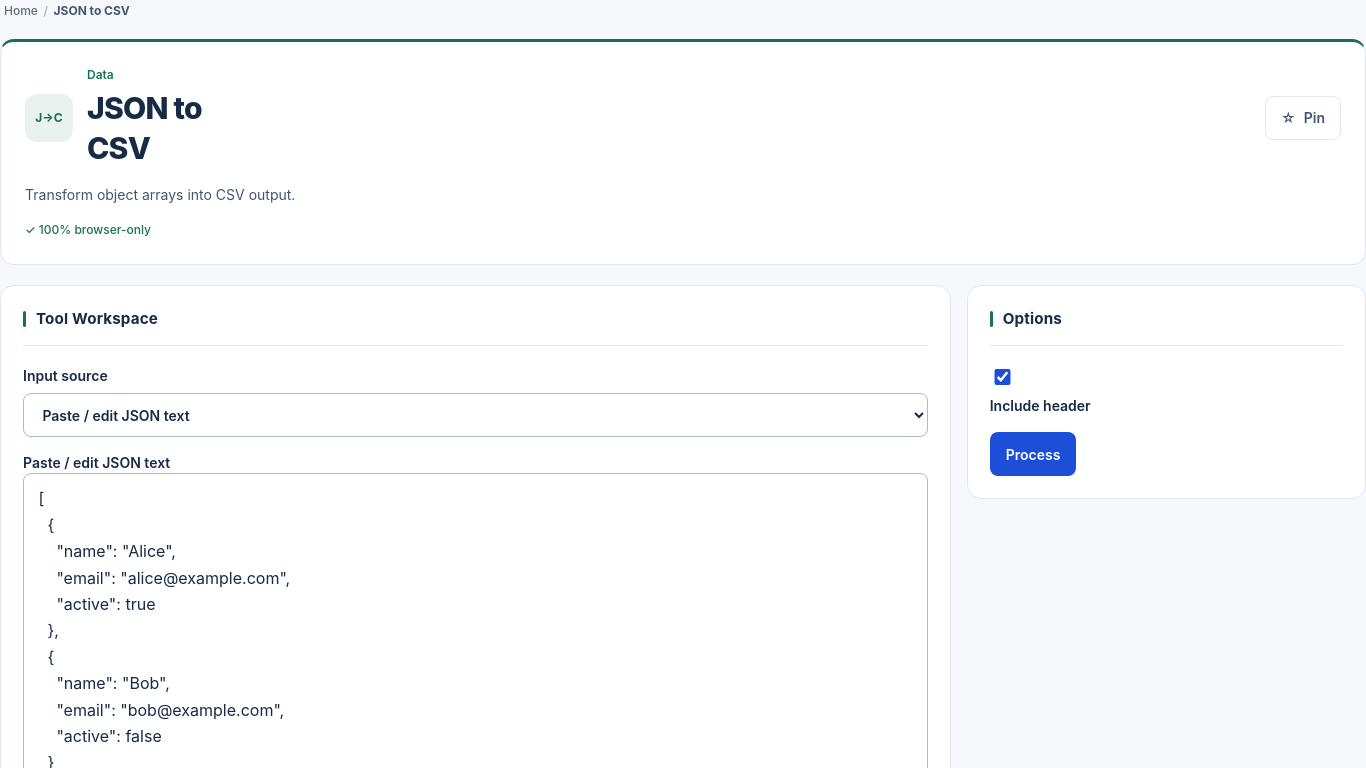
JsonToCsvPage › starts with an editable JSON array sample that can be converted
Click the button "Process": point(1033, 454) [990, 432, 1076, 476]
(page scrolled)
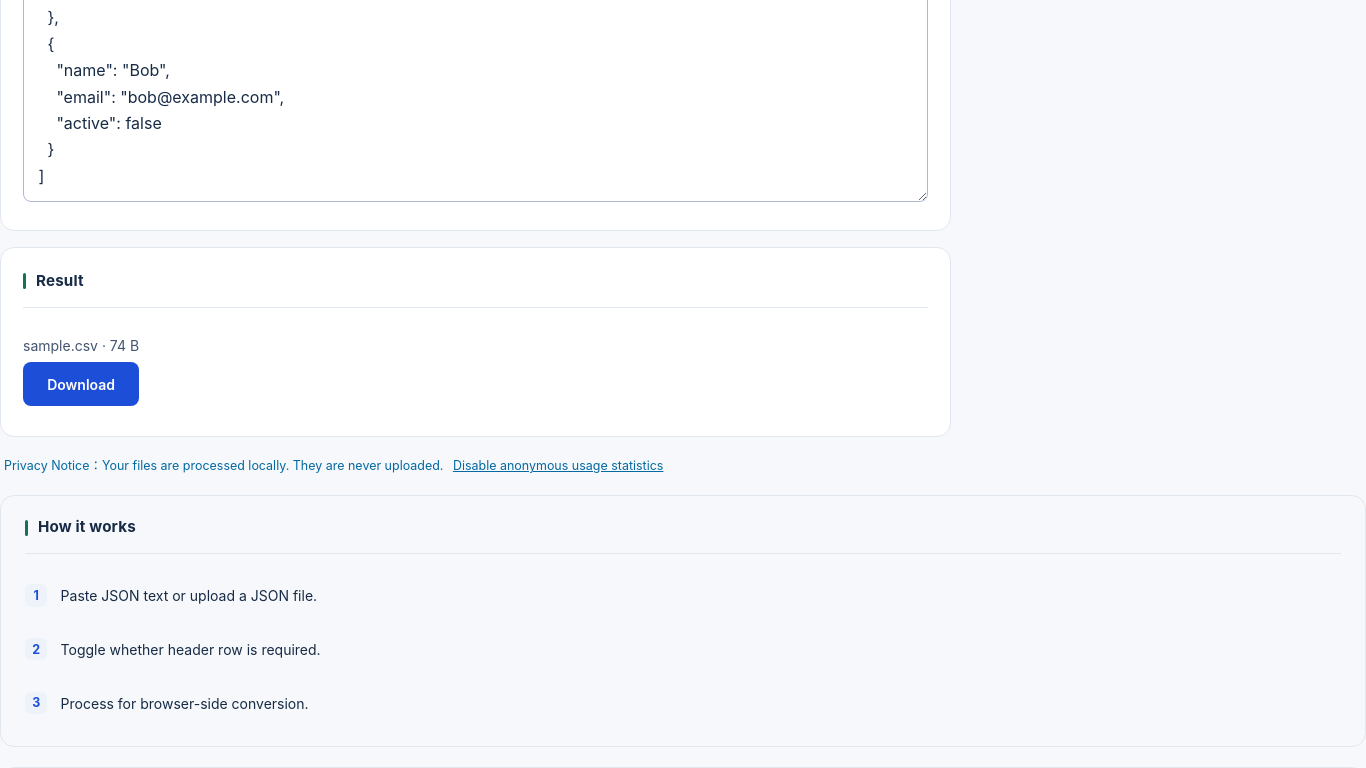
Now the button "Download" is enabled, box [23, 362, 139, 406]
